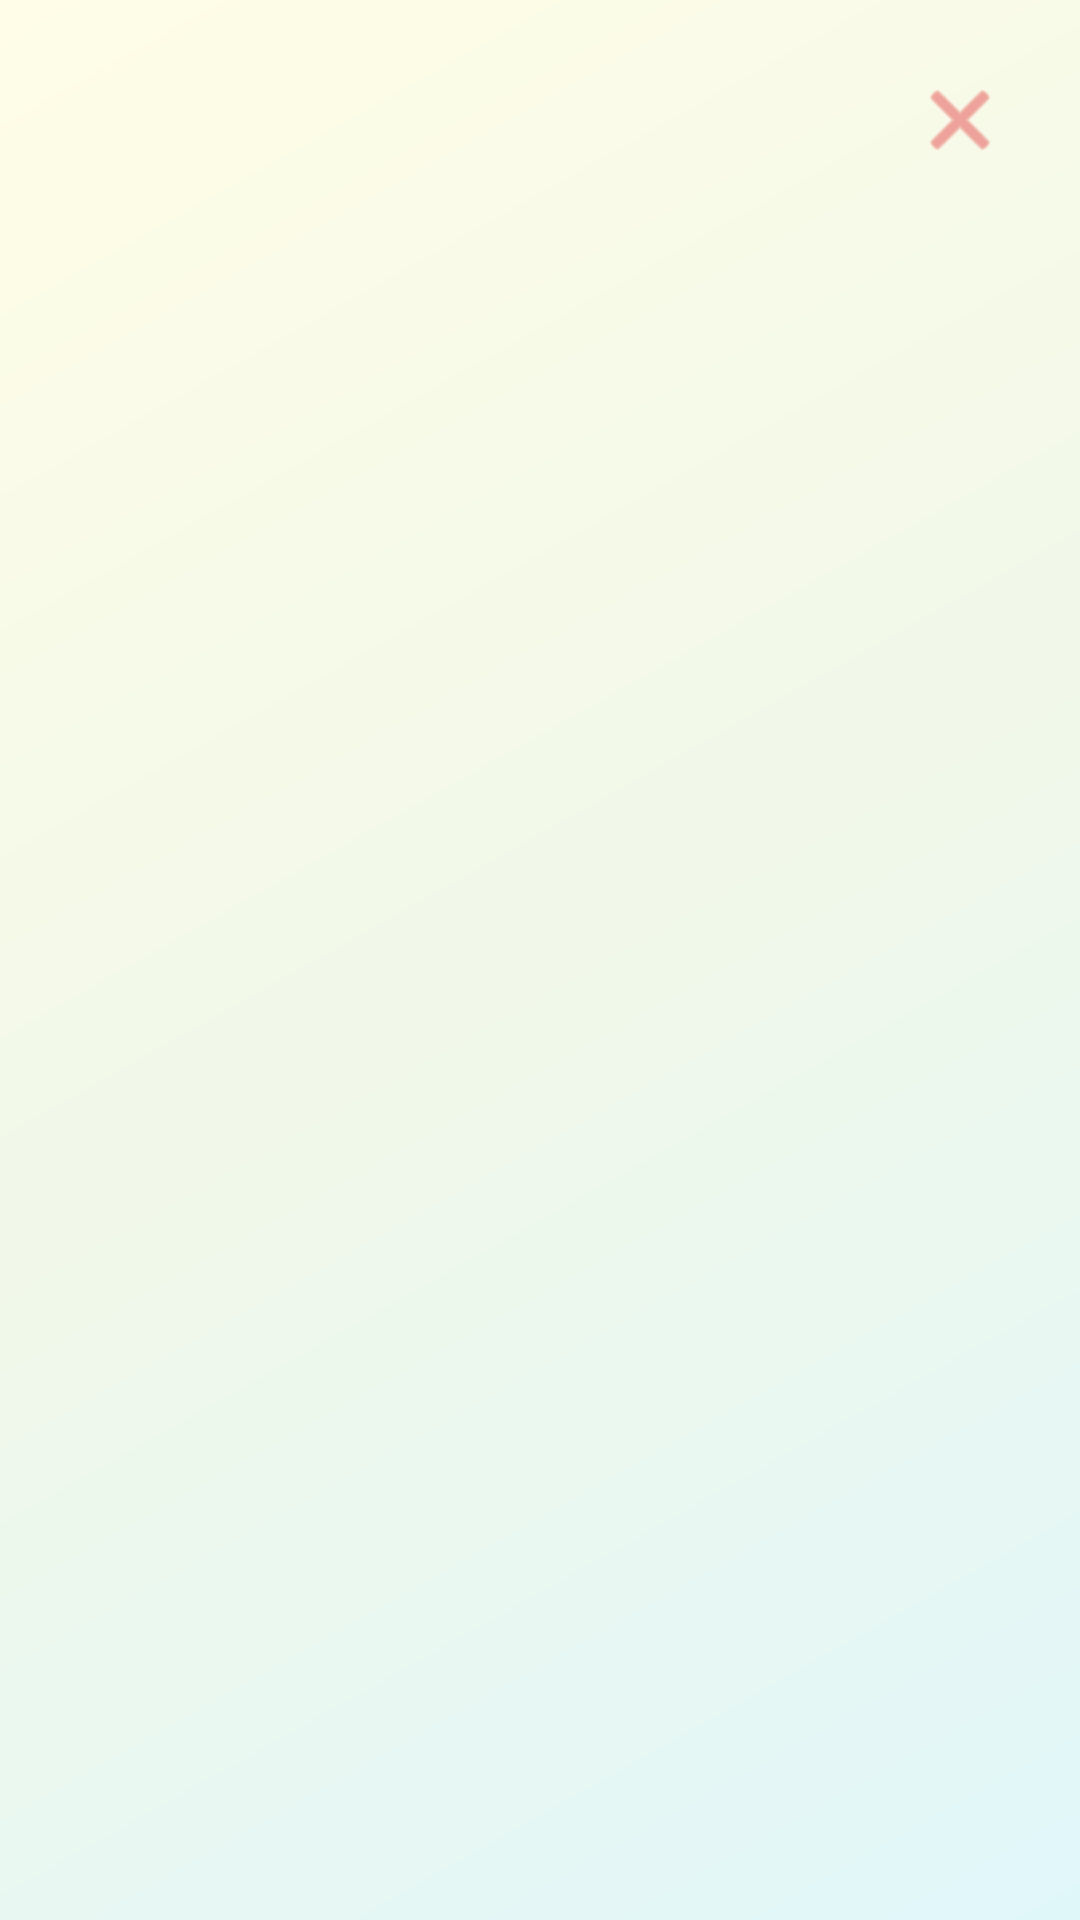

Where icons sit on this 1080 × 1920 app screen, as region(x1, y1, x2, y2):
Close: region(930, 90, 990, 150)
